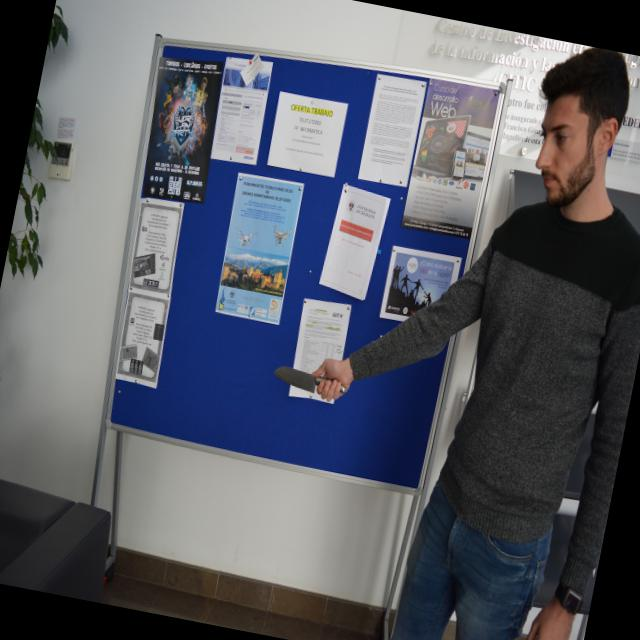knife: (268, 360, 350, 406)
